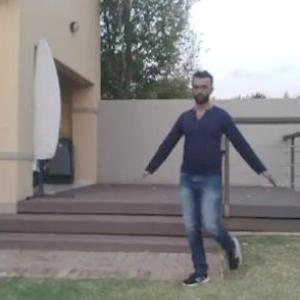land: (142, 69, 274, 287)
